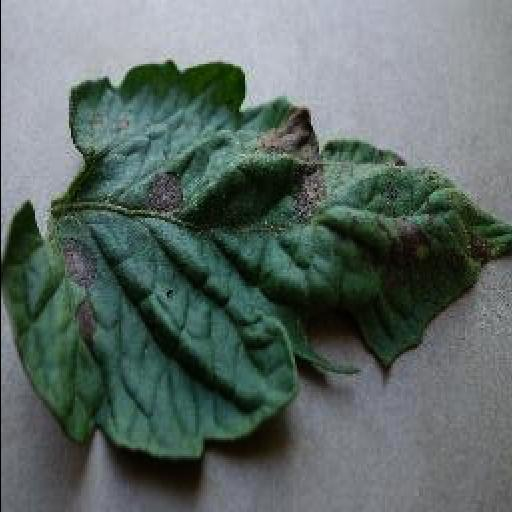disease_tomato: (0, 62, 510, 466)
